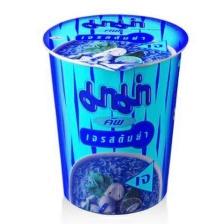paper_cup: (37, 10, 192, 218)
